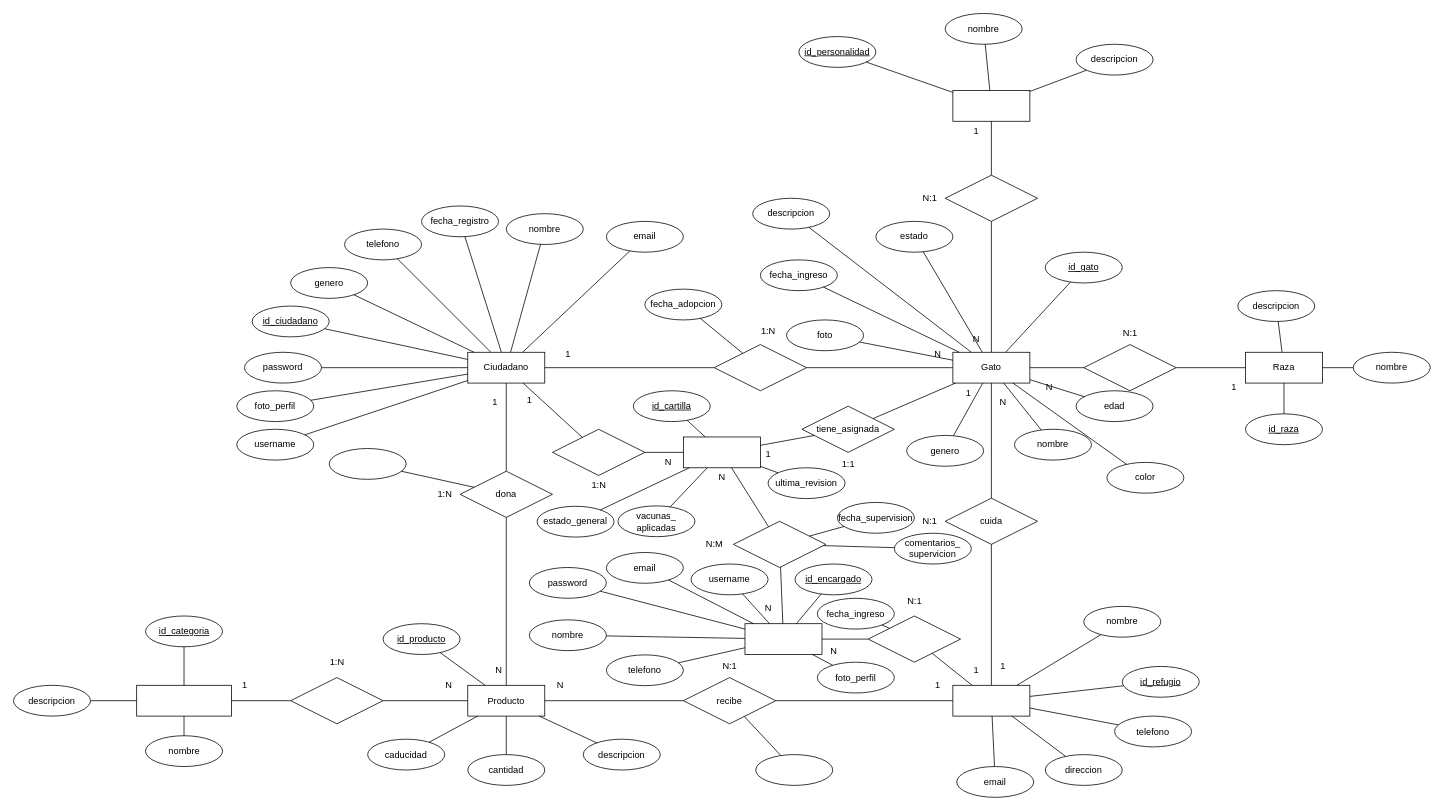
Image size: 1444x811. Some labels were removed from this diagram. Here are the shapes that lost their labels. From the top down, the centre of each, then its label:
the point at 991,105: Personalidad
the point at 991,197: tiene
the point at 760,367: adopta
the point at 1129,367: se_clasifica _ en
the point at 367,463: fecha_donacion
the point at 598,452: llena
the point at 721,452: Cartilla Salud Gato
the point at 779,544: supervisa
the point at 783,638: Encargado
the point at 914,638: trabaja_en
the point at 183,700: Categoria Producto
the point at 336,700: se_categoriza_en
the point at 991,700: Refugio
the point at 794,769: status_donacion
